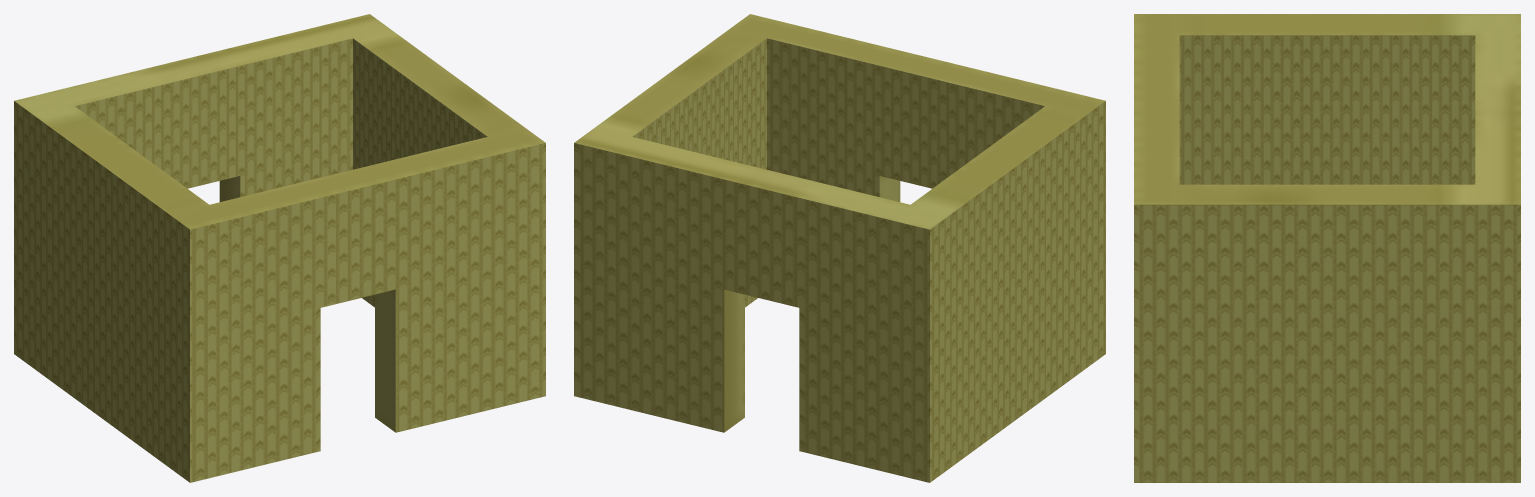
File: wall4.fbx
The picture shows the model from 3 angles, left to right: view 1: azimuth 30°, elevation 25°; view 2: azimuth 150°, elevation 25°; view 3: azimuth 270°, elevation 25°; orthographic projection. The views are drawn at different scales.
Parts seen in each view (by area): view 1: 立方體.007; view 2: 立方體.007; view 3: 立方體.007.
Part boxes in pixels (x1,y1,x2,y2): 立方體.007: [14, 14, 545, 482]; 立方體.007: [574, 14, 1105, 482]; 立方體.007: [1134, 14, 1520, 482].
Size of the model in its own units: 948 by 645 by 813.
